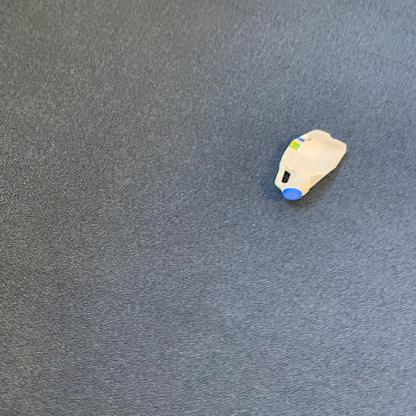trash: (270, 127, 351, 206)
